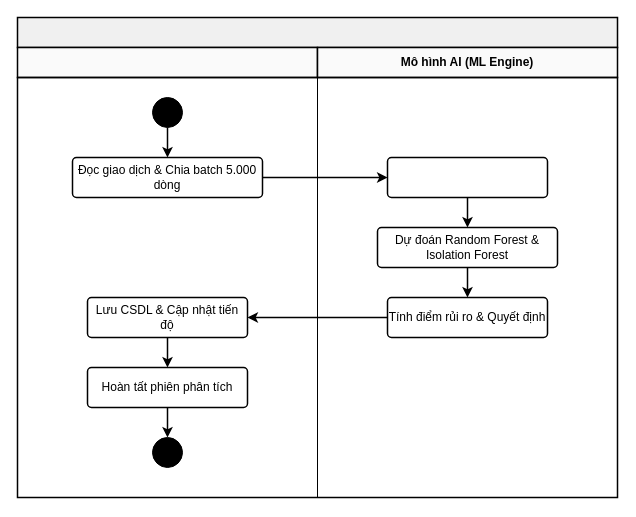
Some shapes in this 636 by 517 pixel diagram are drawn without their labels. Each missing label, with the box of its shape:
QUY TRÌNH CHẤM ĐIỂM RỦI RO BẰNG MÔ HÌNH AI: (16, 16, 618, 48)
Tiến trình Job nền: (16, 46, 318, 78)
Trích xuất 34 đặc trưng: (386, 156, 548, 198)
